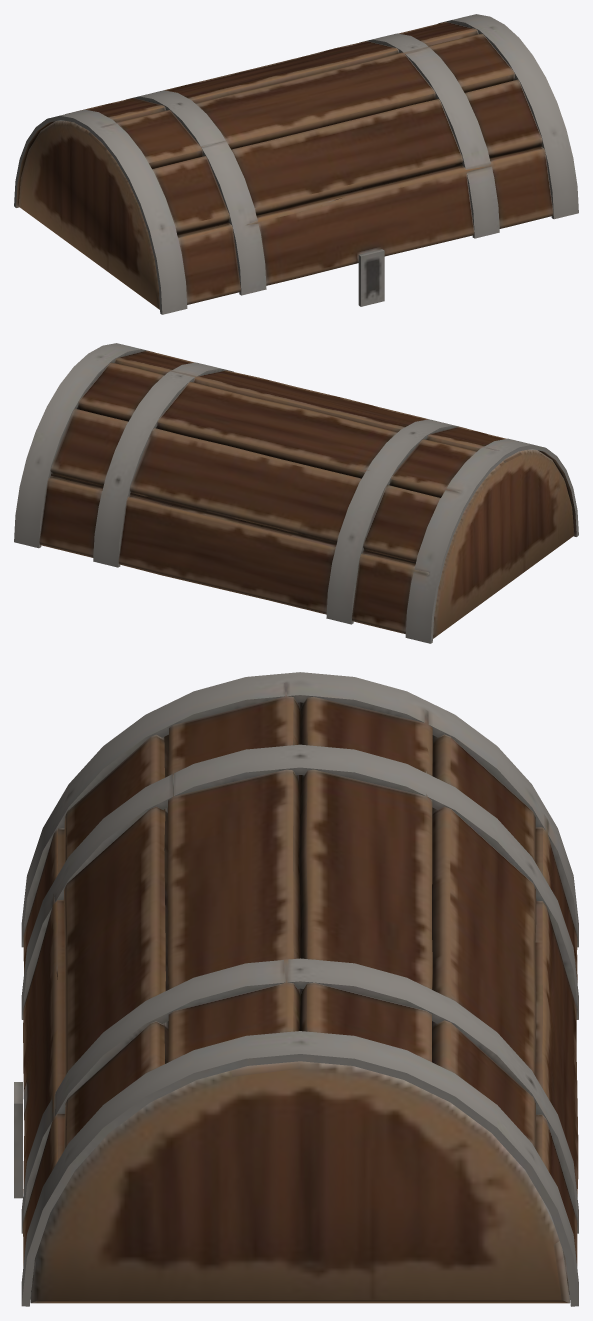
The model's file is chest_lid.glb.
3 views of the same model, one above another, from view 1: azimuth 30°, elevation 25°; view 2: azimuth 150°, elevation 25°; view 3: azimuth 270°, elevation 25° (orthographic). The views are drawn at different scales.
Parts seen in each view (by area): view 1: chest_lid; view 2: chest_lid; view 3: chest_lid.
Part boxes in pixels (left/top/right/bottom): chest_lid: left=14, top=14, right=578, bottom=314; chest_lid: left=14, top=343, right=578, bottom=643; chest_lid: left=14, top=672, right=578, bottom=1306.
Size of the model in its own units: 1 by 0.3964 by 0.6254.
1 material, 1 textured.
